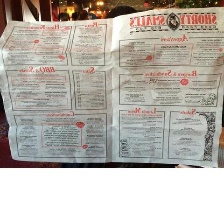news_paper: (0, 6, 223, 167)
